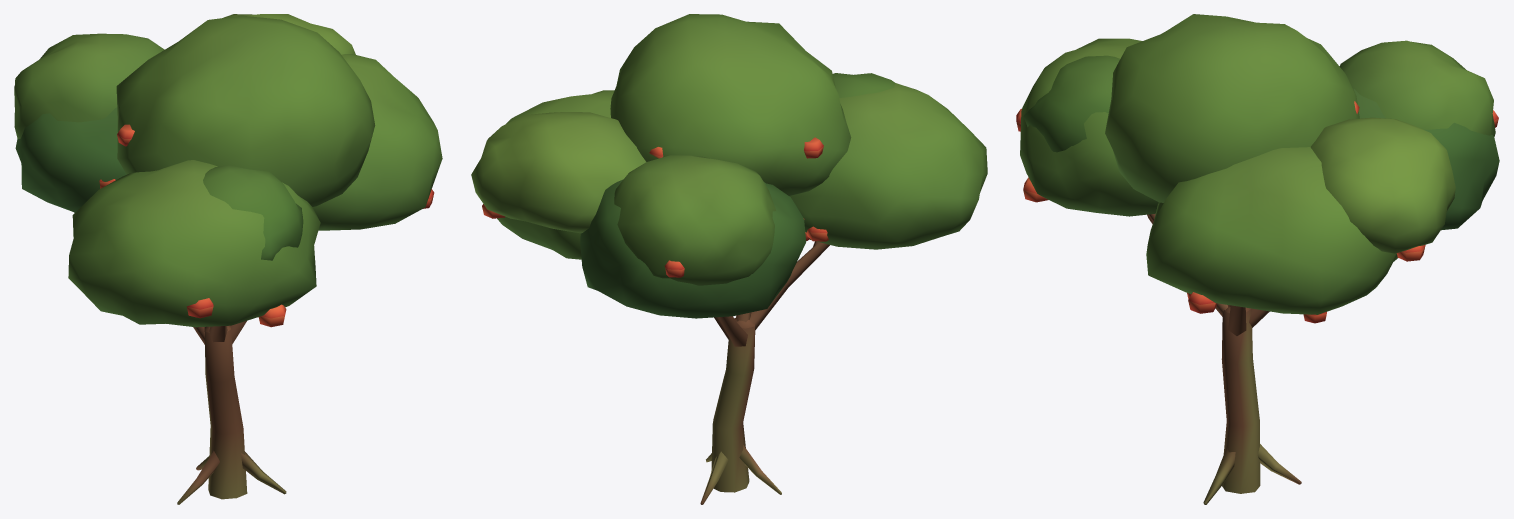
Rendered from apple_tree_young.glb.
The picture shows the model from 3 angles, left to right: view 1: azimuth 30°, elevation 25°; view 2: azimuth 150°, elevation 25°; view 3: azimuth 270°, elevation 25°; orthographic projection. The views are drawn at different scales.
Visible parts, largest first — view 1: orchard_apple_tree_young_Canopy, orchard_apple_tree_young_Trunk, orchard_apple_tree_young_Fruit; view 2: orchard_apple_tree_young_Canopy, orchard_apple_tree_young_Trunk, orchard_apple_tree_young_Fruit; view 3: orchard_apple_tree_young_Canopy, orchard_apple_tree_young_Trunk, orchard_apple_tree_young_Fruit.
Boxes of the visible parts, <box> form: orchard_apple_tree_young_Canopy: <box>14,14,442,327</box>; orchard_apple_tree_young_Trunk: <box>177,321,286,504</box>; orchard_apple_tree_young_Fruit: <box>99,124,434,327</box>; orchard_apple_tree_young_Canopy: <box>471,14,987,318</box>; orchard_apple_tree_young_Trunk: <box>700,241,829,504</box>; orchard_apple_tree_young_Fruit: <box>482,137,828,277</box>; orchard_apple_tree_young_Canopy: <box>1020,14,1499,314</box>; orchard_apple_tree_young_Trunk: <box>1147,213,1301,504</box>; orchard_apple_tree_young_Fruit: <box>1016,101,1498,323</box>.
Size of the model in its own units: 2.77 by 2.88 by 2.69.
